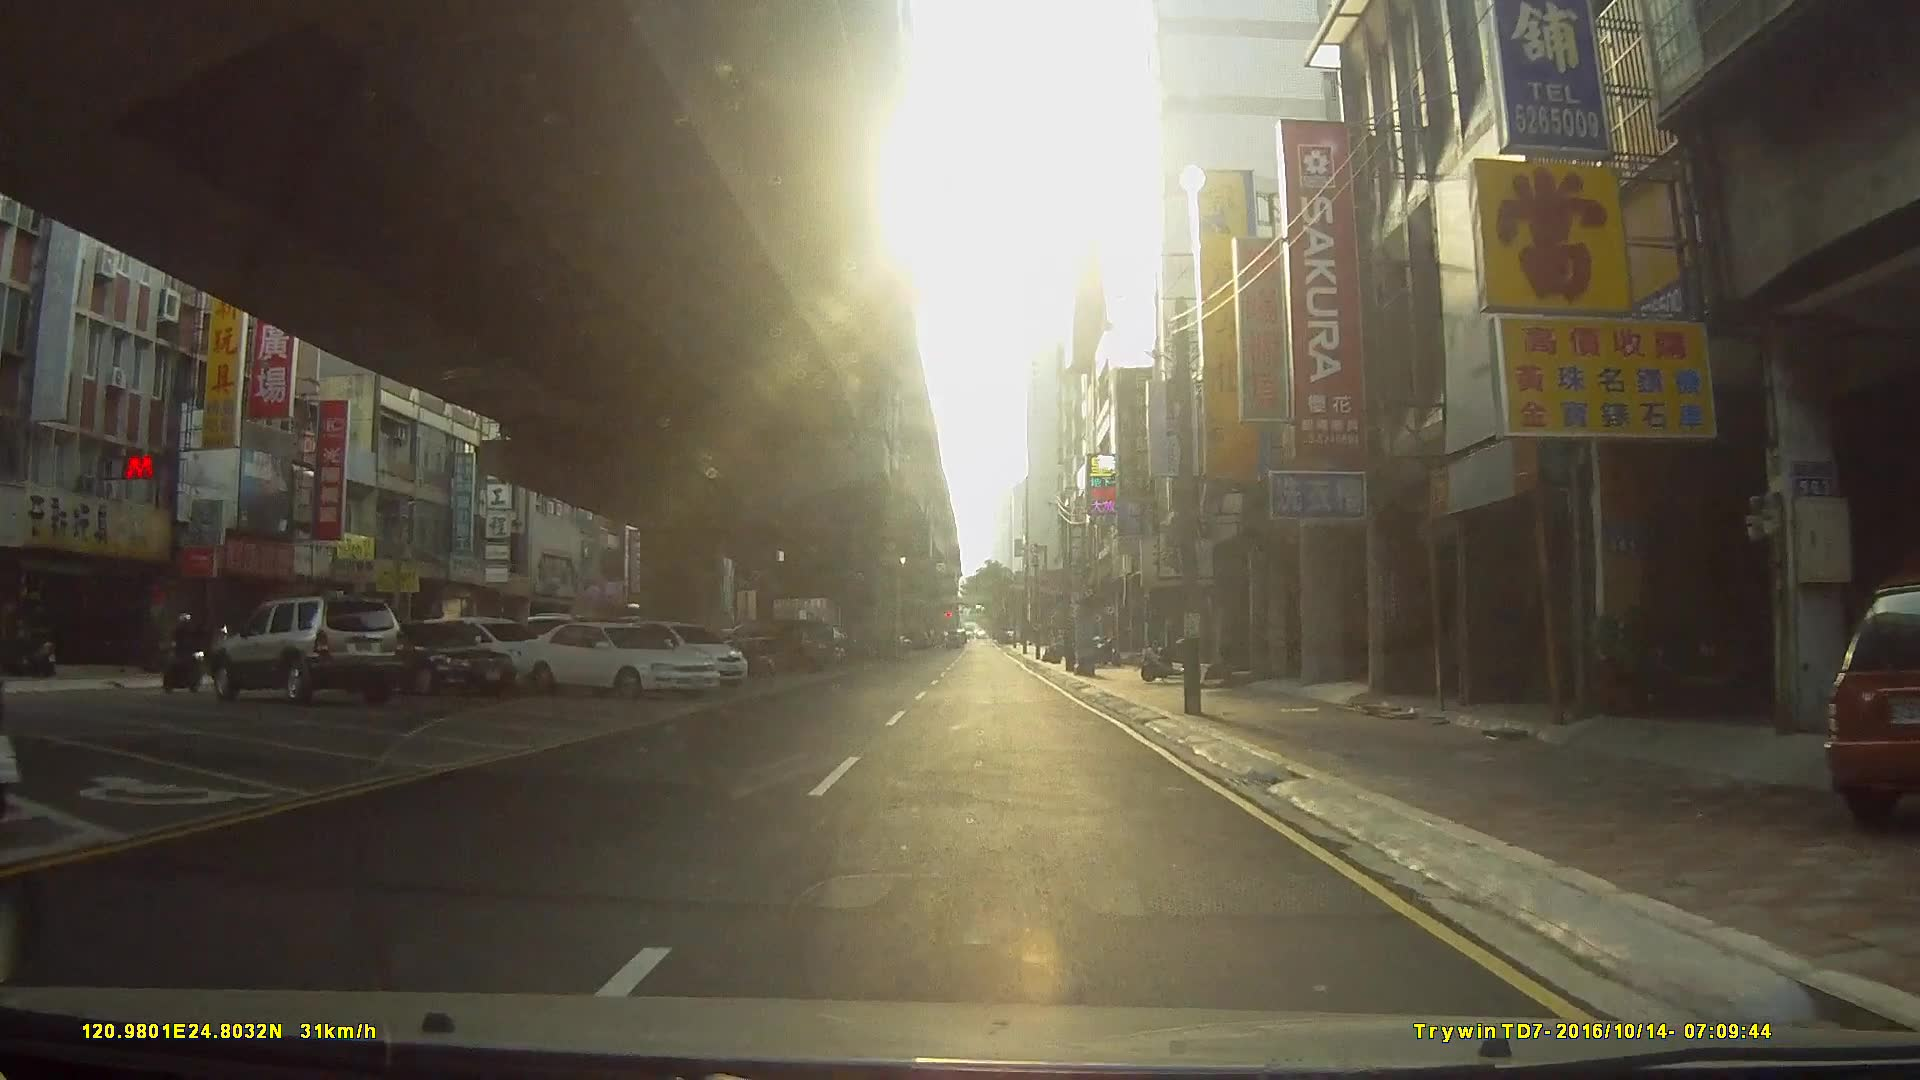rider: (162, 613, 214, 694)
vehicle: (1829, 574, 1920, 827), (208, 597, 403, 706), (309, 619, 515, 698), (511, 620, 724, 696)
